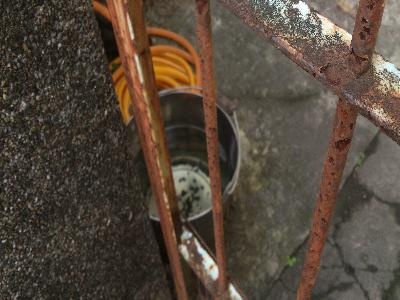bowl: (122, 87, 242, 254)
